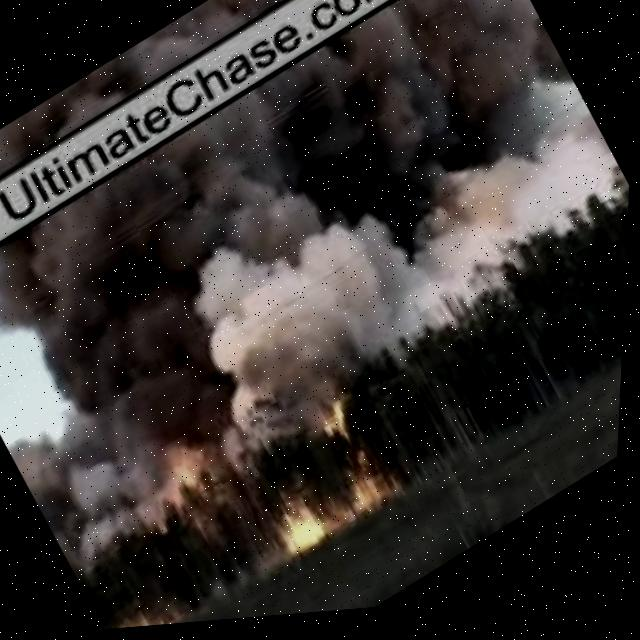Fire: (240, 398, 414, 571), (139, 417, 233, 527), (123, 604, 175, 631)
Smoke: (0, 0, 640, 539), (0, 0, 464, 203)
